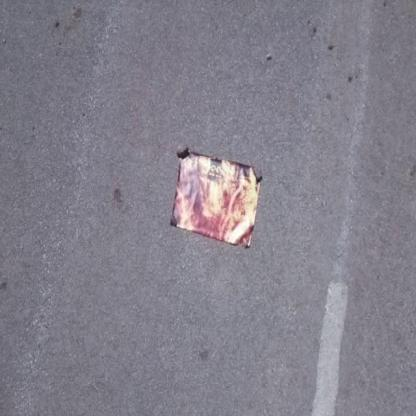fire-poster: (169, 145, 264, 250)
